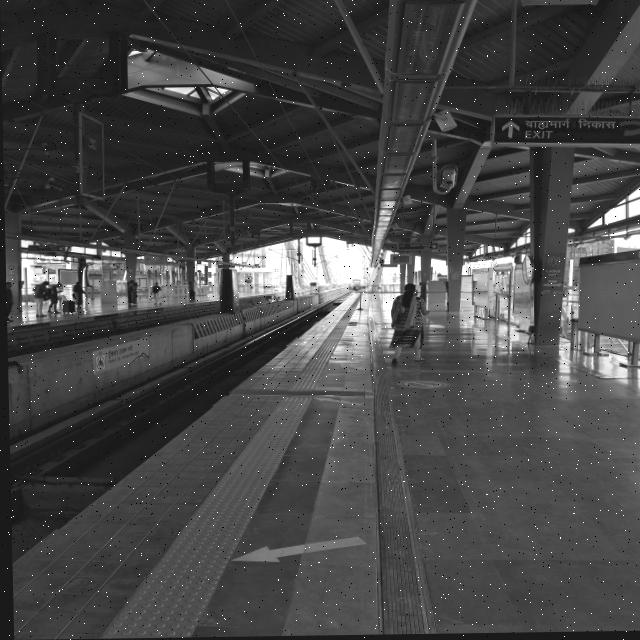train: (348, 279, 363, 291)
